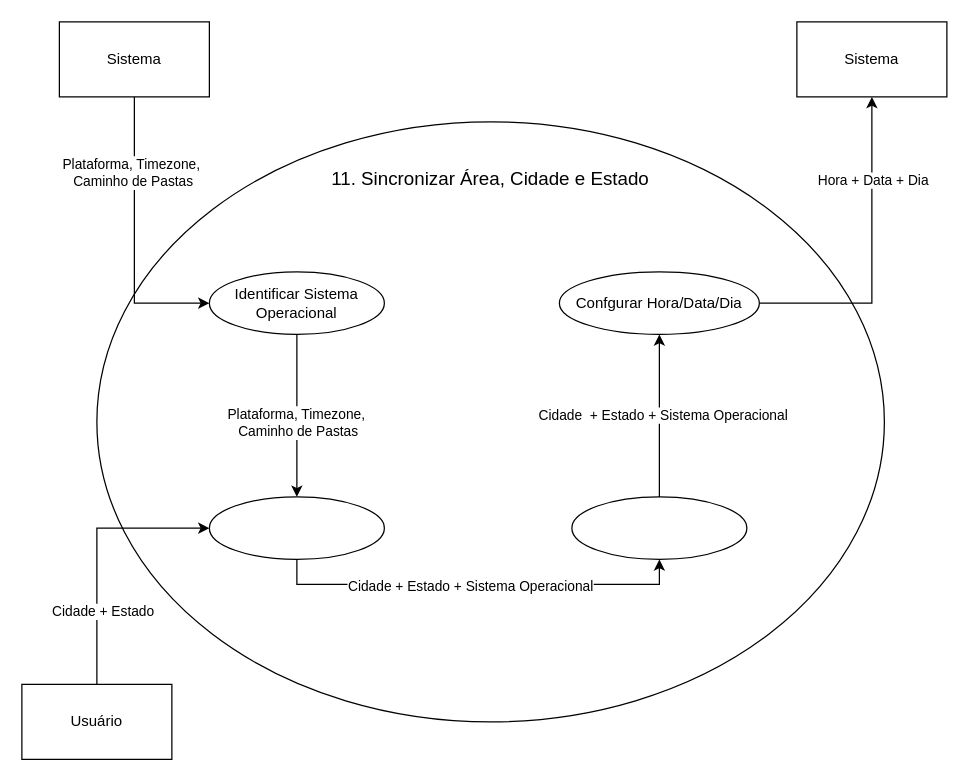
This 969x781 diagram has some shape labels left out. The box of each missing label's shape, as (x1, y1, x2, y2) in pixels:
Capturar Local: (208, 496, 384, 559)
SIncronizar Dados: (571, 496, 747, 559)
